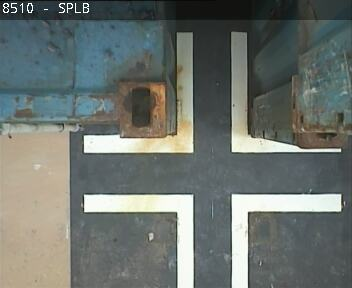groundmarker_1: (83, 32, 339, 154), (84, 194, 340, 288)
